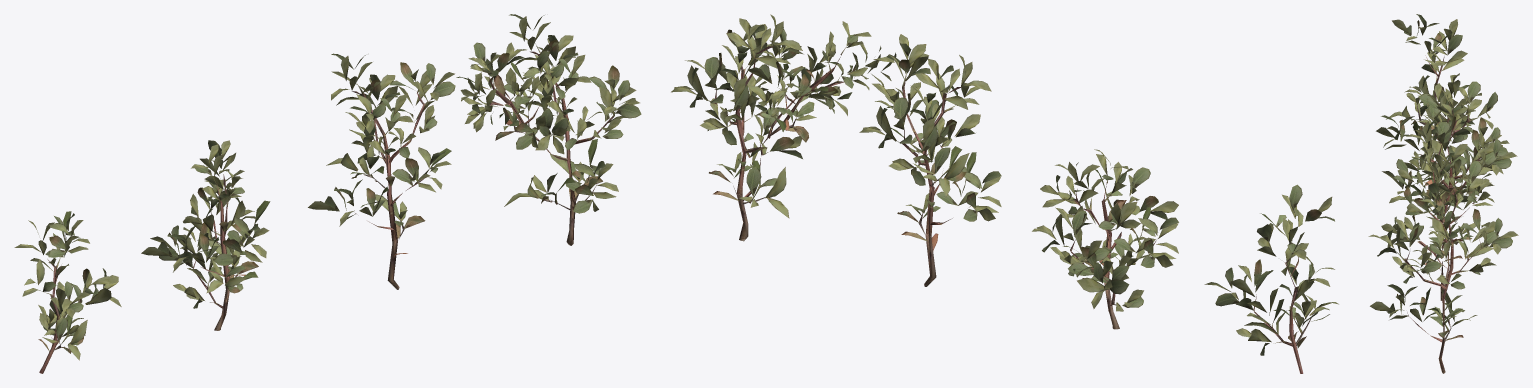
The model's file is shrub_04.glb.
3 renders of one model, left to right at view 1: azimuth 30°, elevation 25°; view 2: azimuth 150°, elevation 25°; view 3: azimuth 270°, elevation 25°, orthographic. The views are drawn at different scales.
Visible parts, largest first — view 1: shrub_04; view 2: shrub_04; view 3: shrub_04.
Boxes of the visible parts, <box> form: shrub_04: <box>14,14,641,373</box>; shrub_04: <box>671,14,1338,373</box>; shrub_04: <box>1368,14,1518,373</box>.
Size of the model in its own units: 0.5837 by 0.2192 by 0.1461.
1 material, 1 textured.
